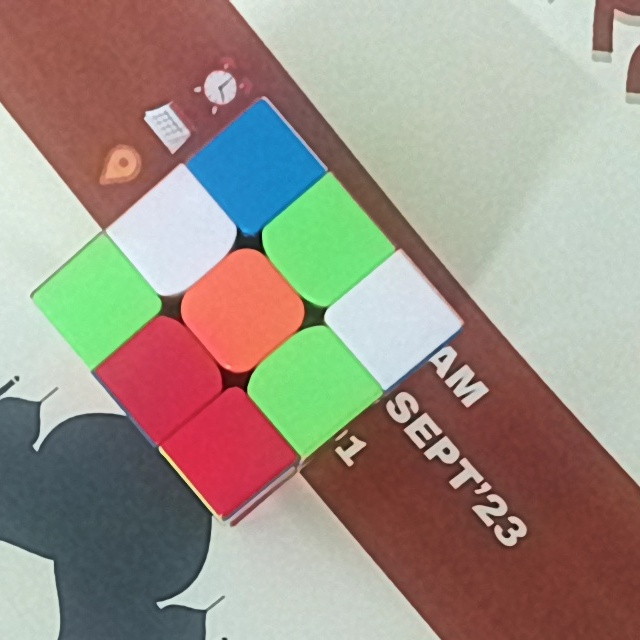tile: (137, 197, 206, 270), (274, 354, 349, 421), (62, 265, 126, 342), (215, 269, 279, 346), (296, 203, 359, 279), (368, 280, 428, 355), (222, 135, 286, 202), (200, 415, 261, 484), (135, 341, 191, 410)
